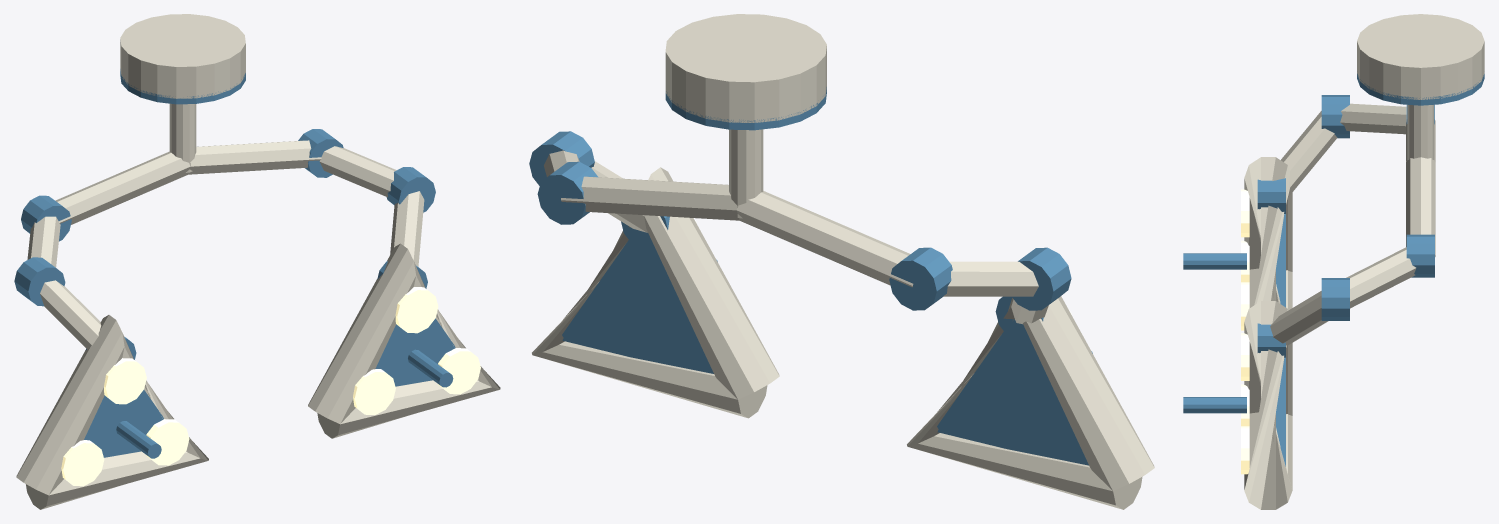
Rendered from surgical_light_advanced.glb.
The picture shows the model from 3 angles, left to right: view 1: azimuth 30°, elevation 25°; view 2: azimuth 150°, elevation 25°; view 3: azimuth 270°, elevation 25°; orthographic projection. The views are drawn at different scales.
Visible parts, largest first — view 1: MOVING_PIVOT_lamp_head_tilt.003, MOVING_PIVOT_lamp_head_tilt.002, STATIC_surgical_light_advanced, MOVING_PIVOT_ceiling_swing_-1, MOVING_PIVOT_ceiling_swing_1.001; view 2: MOVING_PIVOT_lamp_head_tilt.003, MOVING_PIVOT_lamp_head_tilt.002, STATIC_surgical_light_advanced, MOVING_PIVOT_ceiling_swing_-1, MOVING_PIVOT_ceiling_swing_1.001; view 3: STATIC_surgical_light_advanced, MOVING_PIVOT_lamp_head_tilt.003, MOVING_PIVOT_ceiling_swing_1.001, MOVING_PIVOT_lamp_head_tilt.002, MOVING_PIVOT_ceiling_swing_-1.
Boxes of the visible parts, box(x1,y1,x2,y2) form: MOVING_PIVOT_lamp_head_tilt.003: box(308, 243, 500, 438); MOVING_PIVOT_lamp_head_tilt.002: box(16, 315, 208, 509); STATIC_surgical_light_advanced: box(120, 14, 245, 172); MOVING_PIVOT_ceiling_swing_-1: box(14, 151, 190, 359); MOVING_PIVOT_ceiling_swing_1.001: box(188, 129, 435, 288); MOVING_PIVOT_lamp_head_tilt.003: box(532, 167, 779, 418); MOVING_PIVOT_lamp_head_tilt.002: box(907, 296, 1154, 509); STATIC_surgical_light_advanced: box(665, 14, 826, 218); MOVING_PIVOT_ceiling_swing_-1: box(737, 191, 1071, 342); MOVING_PIVOT_ceiling_swing_1.001: box(529, 131, 739, 250); STATIC_surgical_light_advanced: box(1357, 14, 1484, 159); MOVING_PIVOT_lamp_head_tilt.003: box(1183, 301, 1292, 509); MOVING_PIVOT_ceiling_swing_1.001: box(1257, 157, 1435, 357); MOVING_PIVOT_lamp_head_tilt.002: box(1183, 157, 1292, 330); MOVING_PIVOT_ceiling_swing_-1: box(1257, 95, 1435, 213).
Size of the model in its own units: 1.57 by 1.12 by 0.85.
